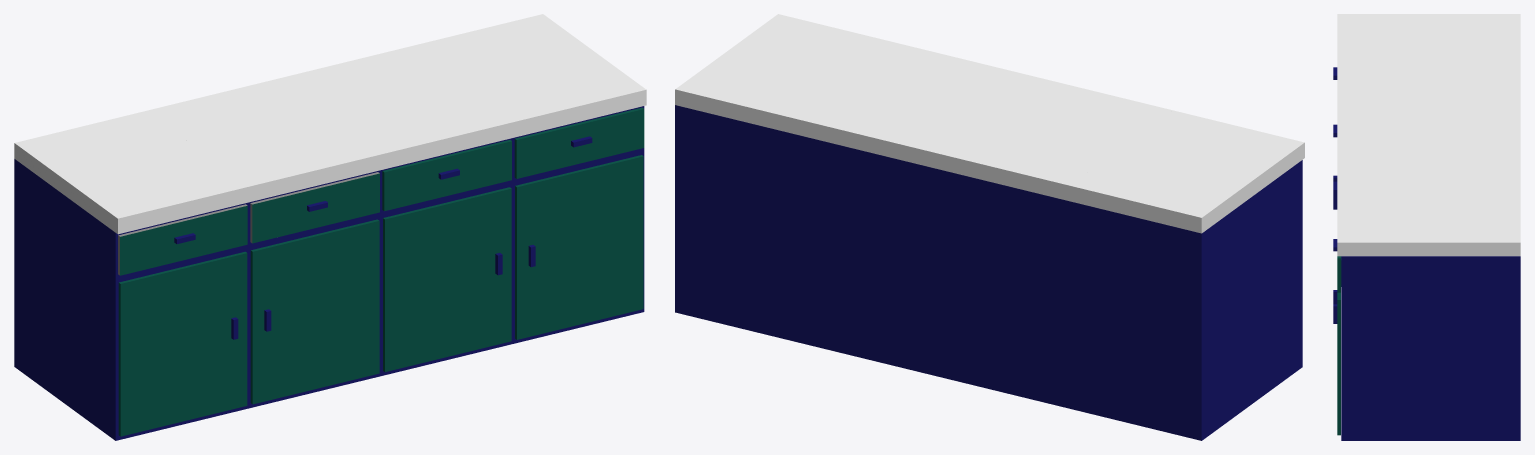
Rendered from Cupboards_Bottom.FBX.
3 renders of one model, left to right at view 1: azimuth 30°, elevation 25°; view 2: azimuth 150°, elevation 25°; view 3: azimuth 270°, elevation 25°, orthographic. The views are drawn at different scales.
Visible parts, largest first — view 1: Kitchen_Cupboard_Bottom01, Kitchen_Cupboard_Bottom_Door02, Kitchen_Cupboard_Bottom_Door01, Kitchen_Cupboard_Bottom_Door03, Kitchen_Cupboard_Bottom_Door04, Kitchen_Counter_Surface_01, Kitchen_Counter_Surface_03, Kitchen_Counter_Surface_04, Kitchen_Counter_Surface_02, Kitchen_Cupboard_Bottom_Drawer04, Kitchen_Cupboard_Bottom_Drawer02, Kitchen_Cupboard_Bottom_Drawer01 (+4 smaller); view 2: Kitchen_Cupboard_Bottom01, Kitchen_Cupboard_Bottom02, Kitchen_Cupboard_Bottom04, Kitchen_Cupboard_Bottom03, Kitchen_Counter_Surface_01, Kitchen_Counter_Surface_04, Kitchen_Counter_Surface_03, Kitchen_Counter_Surface_02; view 3: Kitchen_Cupboard_Bottom04, Kitchen_Counter_Surface_04, Kitchen_Counter_Surface_02, Kitchen_Counter_Surface_03, Kitchen_Counter_Surface_01, Kitchen_Cupboard_Bottom_Door04, Kitchen_Cupboard_Bottom_Drawer04.
Part boxes in pixels (x1,y1,x2,y2): Kitchen_Cupboard_Bottom01: (14, 159, 247, 440); Kitchen_Cupboard_Bottom_Door02: (250, 219, 379, 404); Kitchen_Cupboard_Bottom_Door01: (118, 251, 247, 436); Kitchen_Cupboard_Bottom_Door03: (383, 187, 511, 371); Kitchen_Cupboard_Bottom_Door04: (515, 155, 643, 339); Kitchen_Counter_Surface_01: (14, 111, 249, 234); Kitchen_Counter_Surface_03: (279, 46, 514, 169); Kitchen_Counter_Surface_04: (411, 14, 646, 137); Kitchen_Counter_Surface_02: (147, 78, 382, 201); Kitchen_Cupboard_Bottom_Drawer04: (514, 107, 644, 178); Kitchen_Cupboard_Bottom_Drawer02: (250, 172, 379, 243); Kitchen_Cupboard_Bottom_Drawer01: (118, 204, 247, 275); Kitchen_Cupboard_Bottom01: (1070, 160, 1302, 440); Kitchen_Cupboard_Bottom02: (938, 169, 1069, 408); Kitchen_Cupboard_Bottom04: (675, 105, 806, 344); Kitchen_Cupboard_Bottom03: (807, 137, 938, 376); Kitchen_Counter_Surface_01: (1070, 110, 1304, 233); Kitchen_Counter_Surface_04: (675, 14, 909, 136); Kitchen_Counter_Surface_03: (807, 46, 1041, 168); Kitchen_Counter_Surface_02: (938, 78, 1172, 201); Kitchen_Cupboard_Bottom04: (1341, 256, 1520, 440); Kitchen_Counter_Surface_04: (1337, 185, 1520, 256); Kitchen_Counter_Surface_02: (1337, 71, 1520, 128); Kitchen_Counter_Surface_03: (1337, 128, 1520, 185); Kitchen_Counter_Surface_01: (1337, 14, 1520, 70); Kitchen_Cupboard_Bottom_Door04: (1333, 292, 1340, 435); Kitchen_Cupboard_Bottom_Drawer04: (1333, 239, 1341, 292).
Size of the model in its own units: 403 by 163 by 140.
